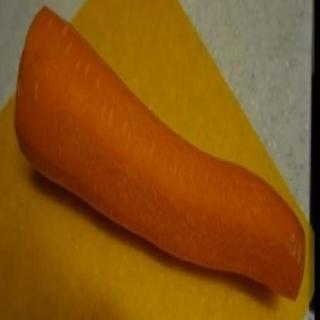carrot: (11, 5, 310, 303)
